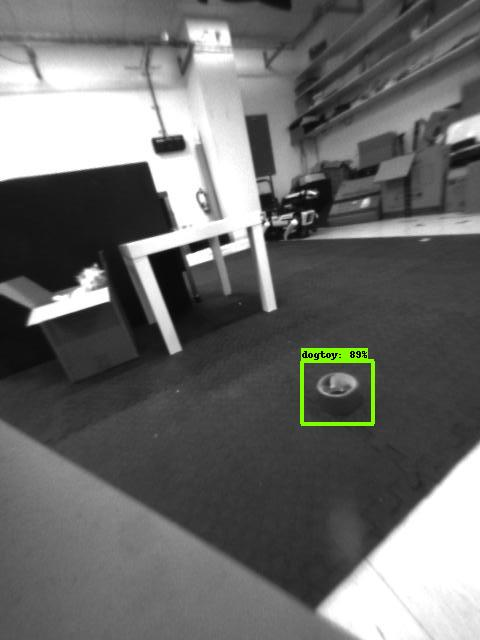dogtoy: (311, 364, 373, 418)
